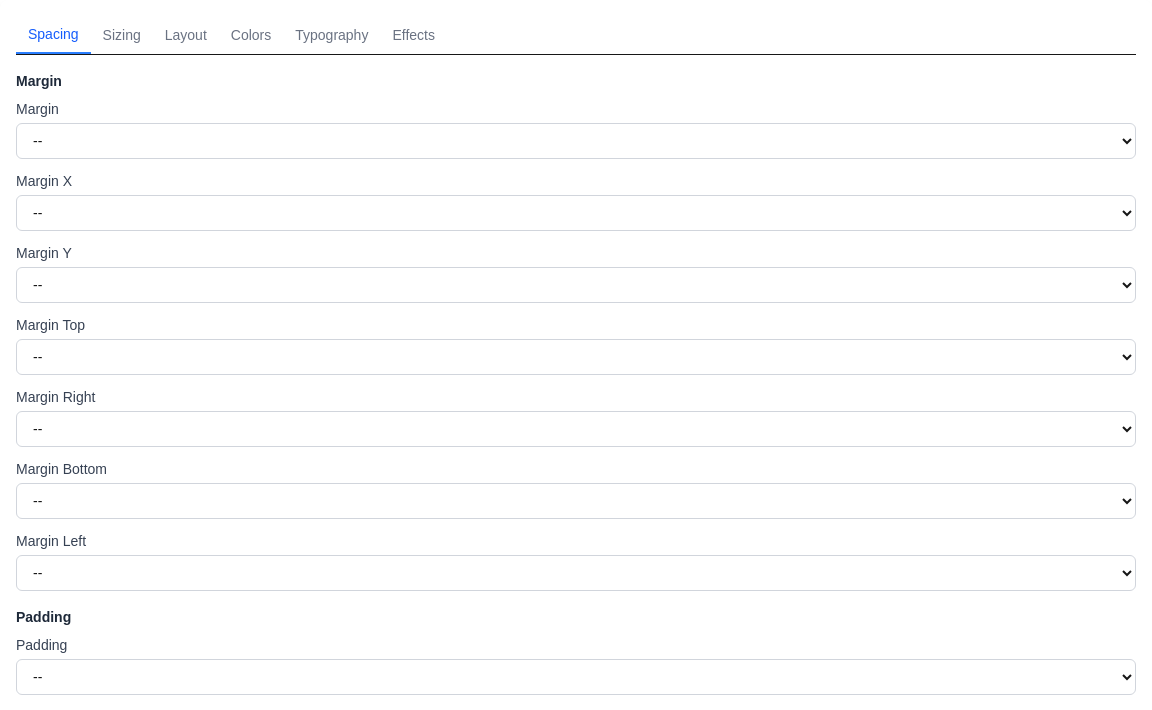
it: TailwindClassEditor › tab navigation › switches to Colors tab on click
The width and height of the screenshot is (1152, 710).
Click the tab "Colors" at {"x": 251, "y": 35}, box [219,16,283,54]
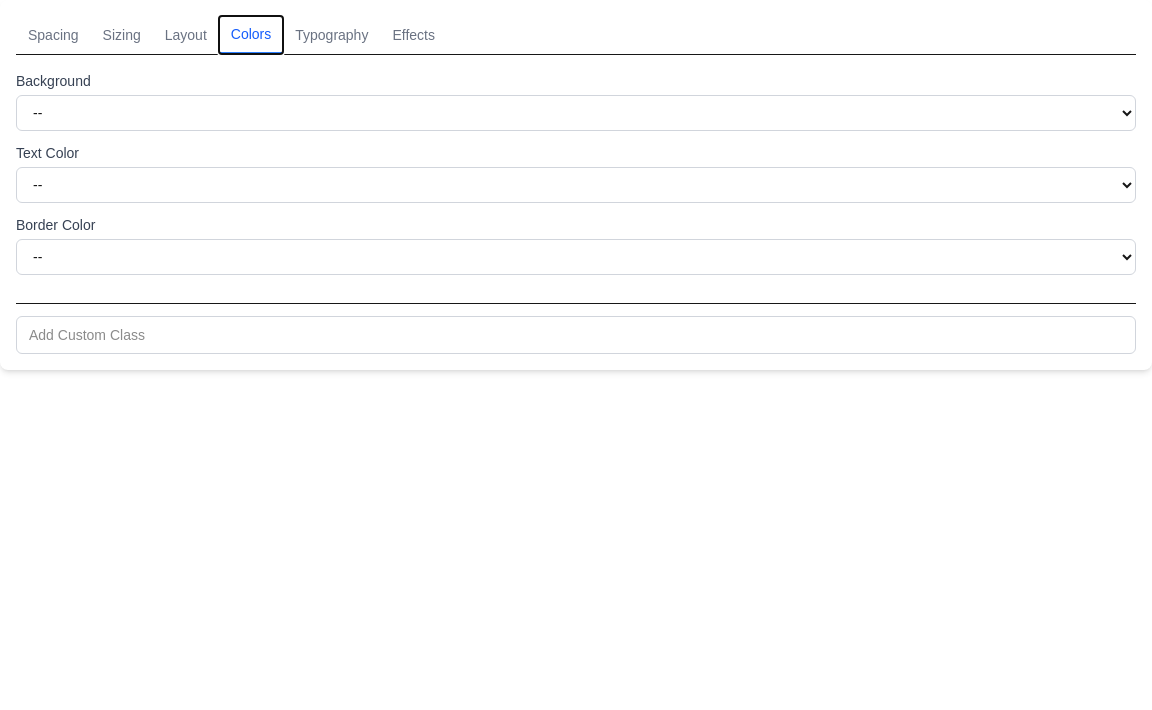
Expected: the dropdown labelled "Background" is shown, [16,95,1136,131]
